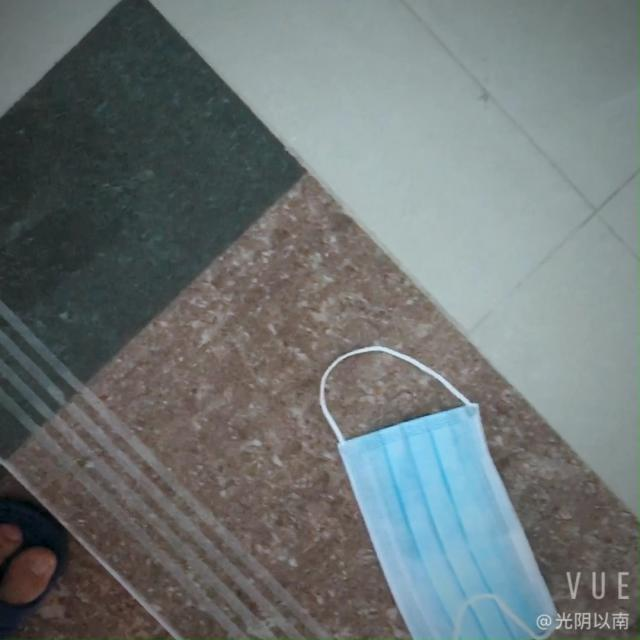face mask: (336, 400, 554, 638)
